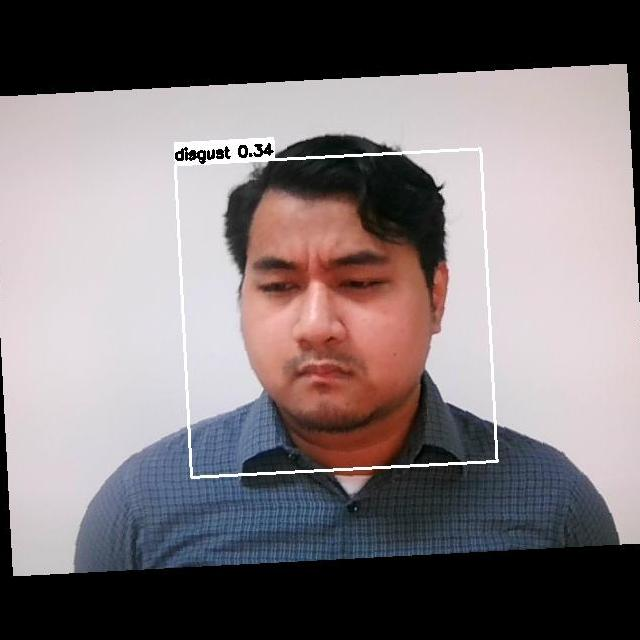Angry: (232, 231, 434, 408)
